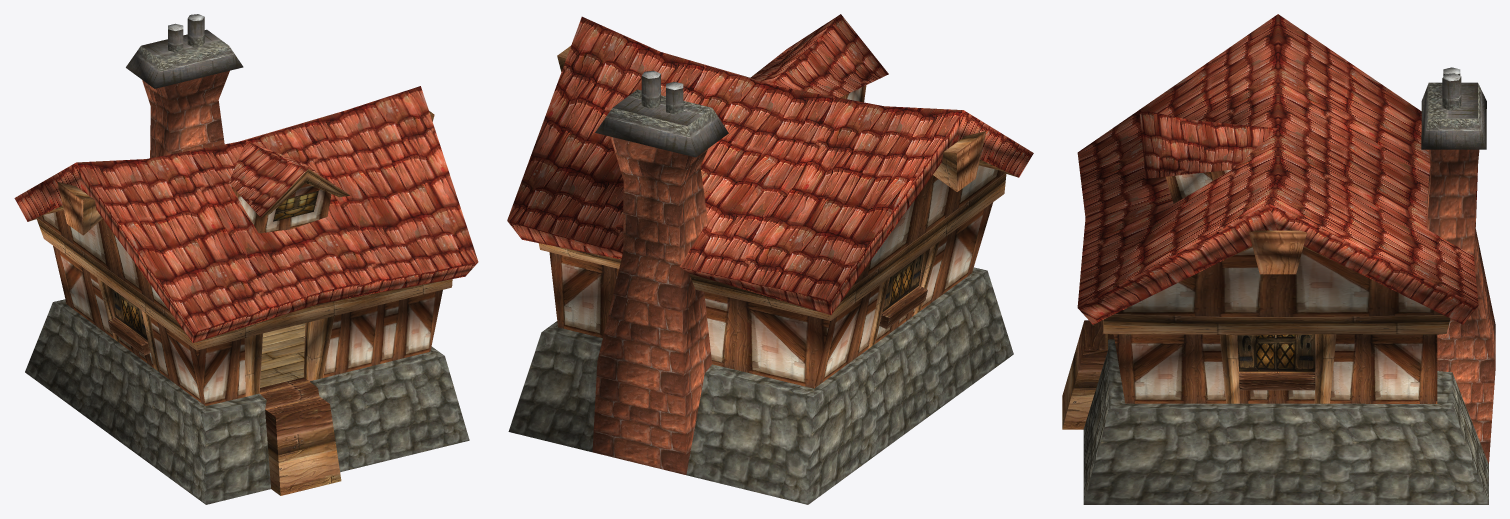
The model's file is HumanFarmSmall.obj.
3 renders of one model, left to right at view 1: azimuth 30°, elevation 25°; view 2: azimuth 150°, elevation 25°; view 3: azimuth 270°, elevation 25°, orthographic. The views are drawn at different scales.
Visible parts, largest first — view 1: RedRidge_human_farm_000.wmo, RedRidge_human_farm_001.wmo; view 2: RedRidge_human_farm_000.wmo; view 3: RedRidge_human_farm_000.wmo.
Part boxes in pixels (box(x1,y1,x2,y2)): RedRidge_human_farm_000.wmo: box(14, 14, 478, 504); RedRidge_human_farm_001.wmo: box(260, 323, 305, 387); RedRidge_human_farm_000.wmo: box(507, 14, 1033, 504); RedRidge_human_farm_000.wmo: box(1062, 14, 1495, 504).
Bounding box in the file's own units: 18.87 × 16.88 × 18.02.
Materials: 13 (13 with a texture image).
